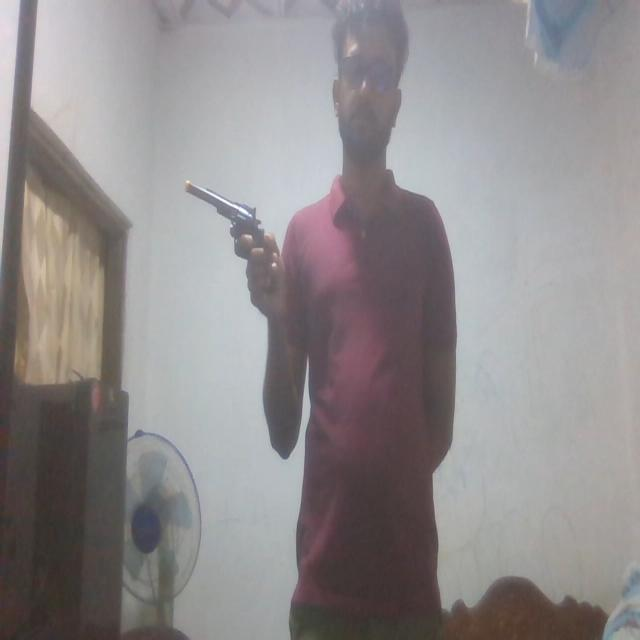Gun_Holder: (181, 170, 284, 319)
Person: (252, 0, 460, 640)
